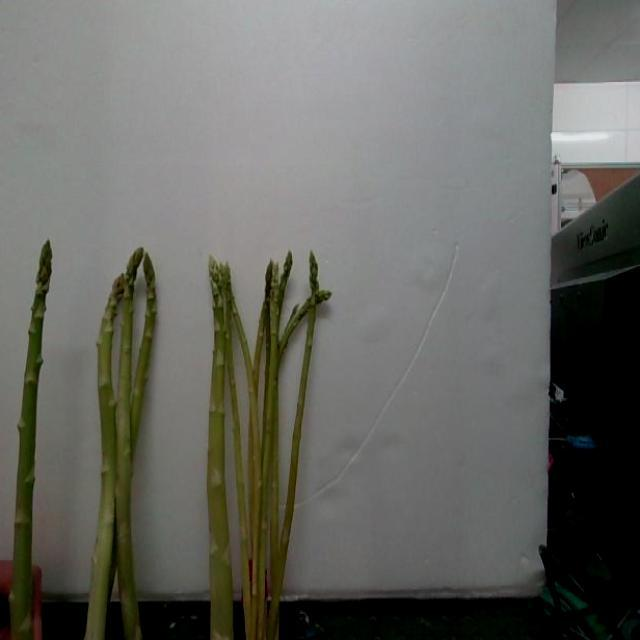aspargus: (10, 242, 52, 640), (84, 269, 124, 640)
